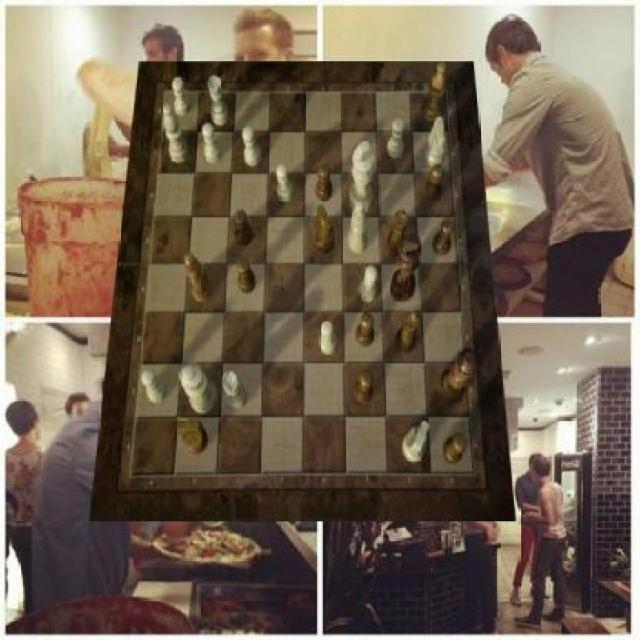bishop: (423, 63, 446, 123), (184, 254, 212, 303)
black-bishop: (391, 234, 421, 303)
black-king: (177, 418, 208, 454), (316, 207, 334, 256)
black-knight: (432, 220, 455, 256), (424, 165, 444, 202), (234, 209, 253, 247), (443, 434, 466, 464), (237, 258, 256, 294), (356, 312, 374, 347), (317, 165, 334, 202), (355, 370, 373, 404)
black-pawn: (437, 348, 478, 405)
black-queen: (386, 211, 409, 257), (396, 310, 420, 354)
black-rook: (165, 106, 189, 165), (348, 200, 368, 254)
white-bishop: (350, 142, 376, 216)
white-king: (403, 418, 431, 461), (424, 117, 446, 168)
white-knight: (142, 369, 168, 404), (203, 124, 223, 164), (172, 77, 192, 117), (242, 128, 260, 168), (388, 120, 405, 160), (275, 165, 293, 202), (359, 266, 376, 302), (319, 320, 336, 355)
white-pawn: (178, 362, 218, 416)
white-queen: (208, 76, 228, 126), (223, 372, 248, 410)
